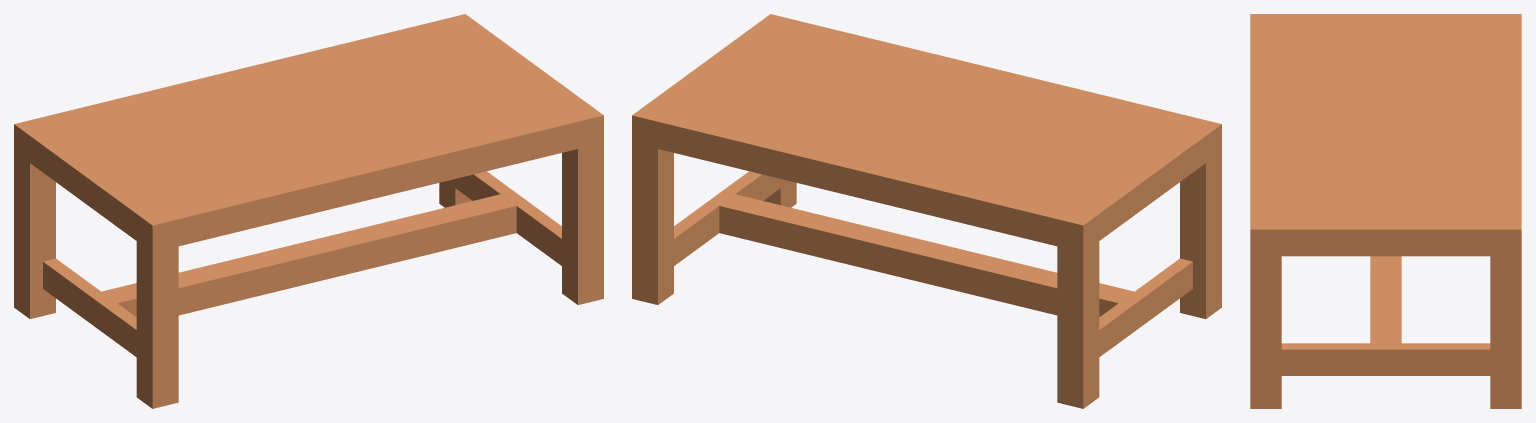
Rendered from table.obj.
The picture shows the model from 3 angles, left to right: view 1: azimuth 30°, elevation 25°; view 2: azimuth 150°, elevation 25°; view 3: azimuth 270°, elevation 25°; orthographic projection. The views are drawn at different scales.
Parts seen in each view (by area): view 1: table; view 2: table; view 3: table.
Boxes of the visible parts, x1=… form: table: x1=14, y1=14, x2=603, y2=408; table: x1=632, y1=14, x2=1221, y2=408; table: x1=1250, y1=14, x2=1521, y2=408.
Size of the model in its own units: 0.8415 by 0.3267 by 0.4474.
